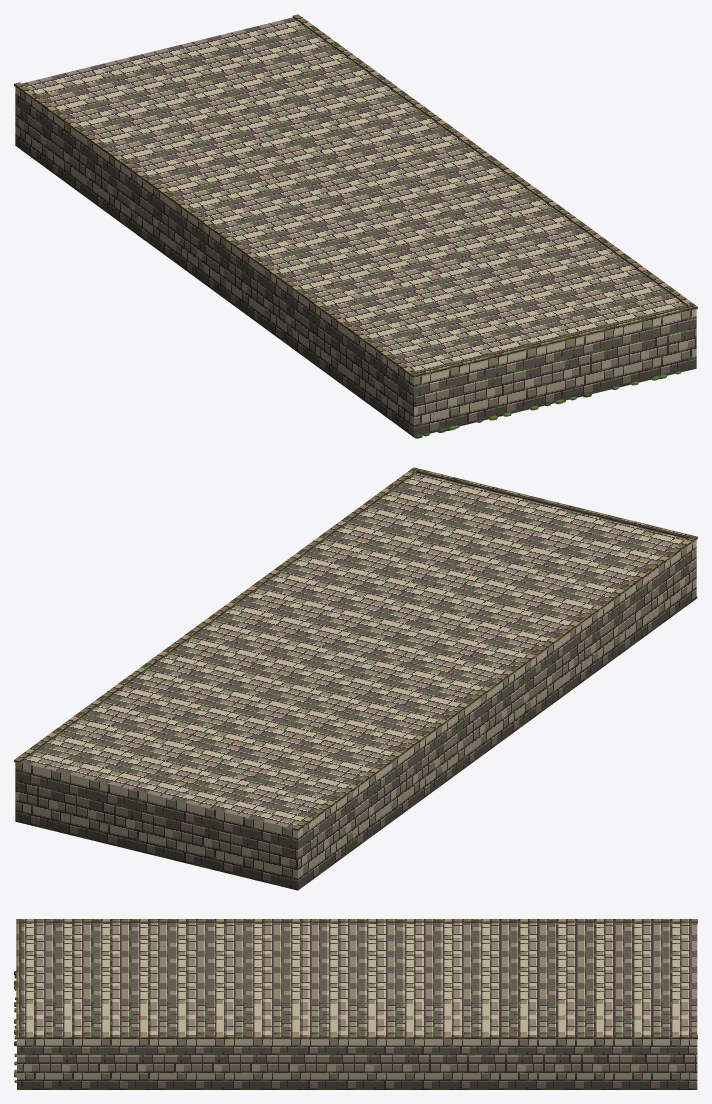
Rendered from scene_wall_w.glb.
3 views of the same model, one above another, from view 1: azimuth 30°, elevation 25°; view 2: azimuth 150°, elevation 25°; view 3: azimuth 270°, elevation 25° (orthographic). The views are drawn at different scales.
Visible parts, largest first — view 1: scene_wall_w; view 2: scene_wall_w; view 3: scene_wall_w.
Boxes of the visible parts, x1,y1,x2,y2 form: scene_wall_w: (14, 14, 697, 438); scene_wall_w: (14, 467, 697, 890); scene_wall_w: (14, 919, 697, 1089).
Size of the model in its own units: 17.7 by 3.77 by 43.24.
Materials: 2 (1 with a texture image).
